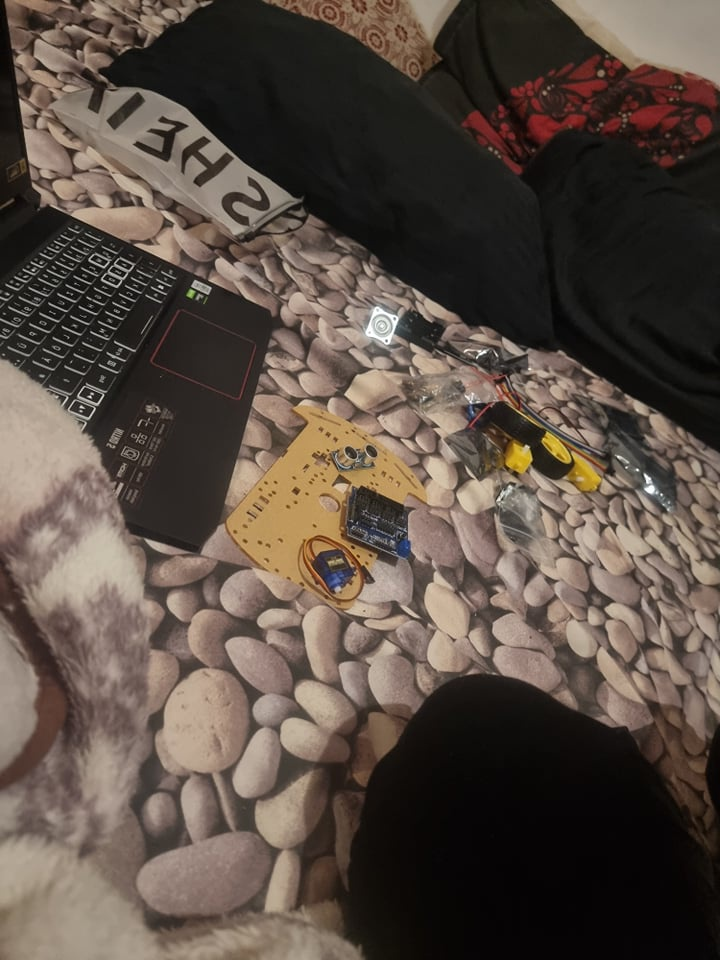5V EXPANSION: (340, 485, 417, 558)
BATTERY BOX: (395, 313, 449, 346)
SENSOR: (328, 442, 381, 469)
